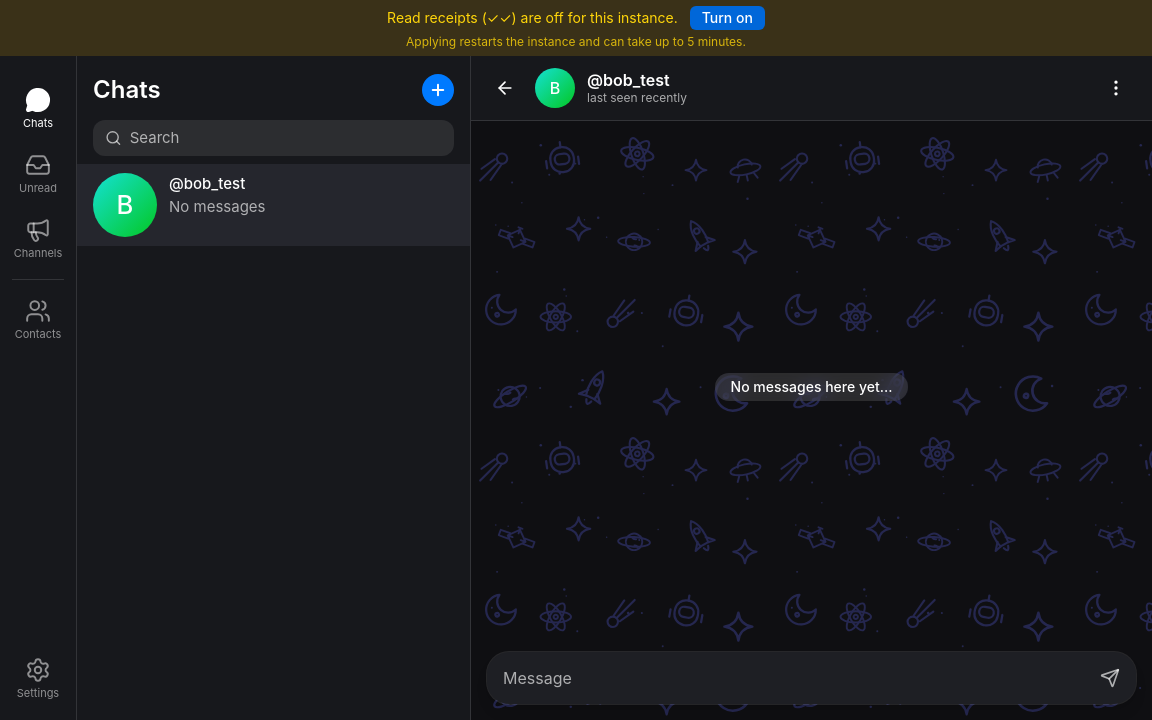
Scenario: sending › sends on Enter, shows message and marks it sent
Type "hello" into the text box labelled "Message" at [794, 678], box [503, 658, 1086, 698]
Then press Enter
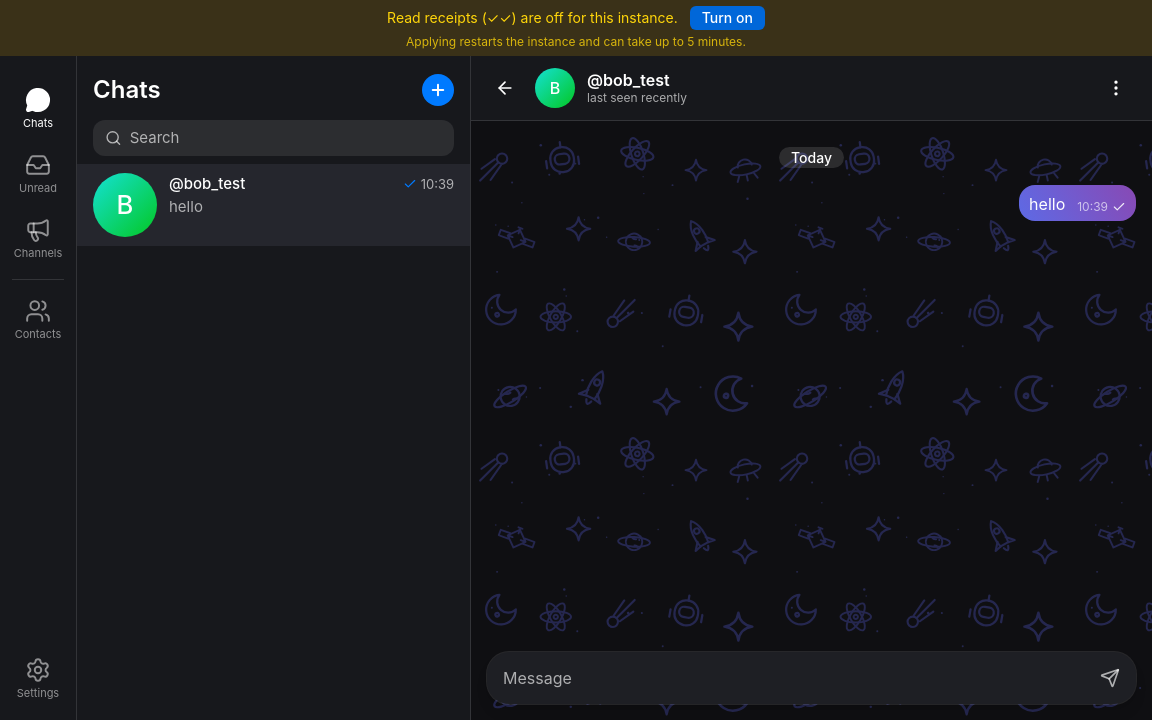
Check: the icon named "Sent" is shown, box [1112, 200, 1126, 214]
